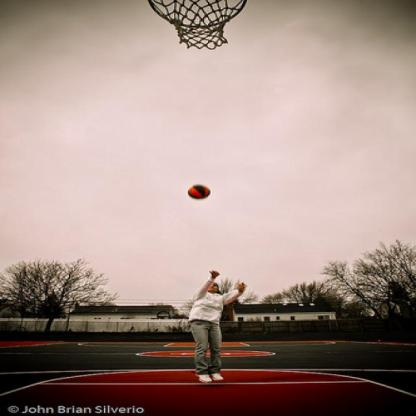basketball: (188, 184, 210, 200)
rim: (143, 0, 252, 27)
